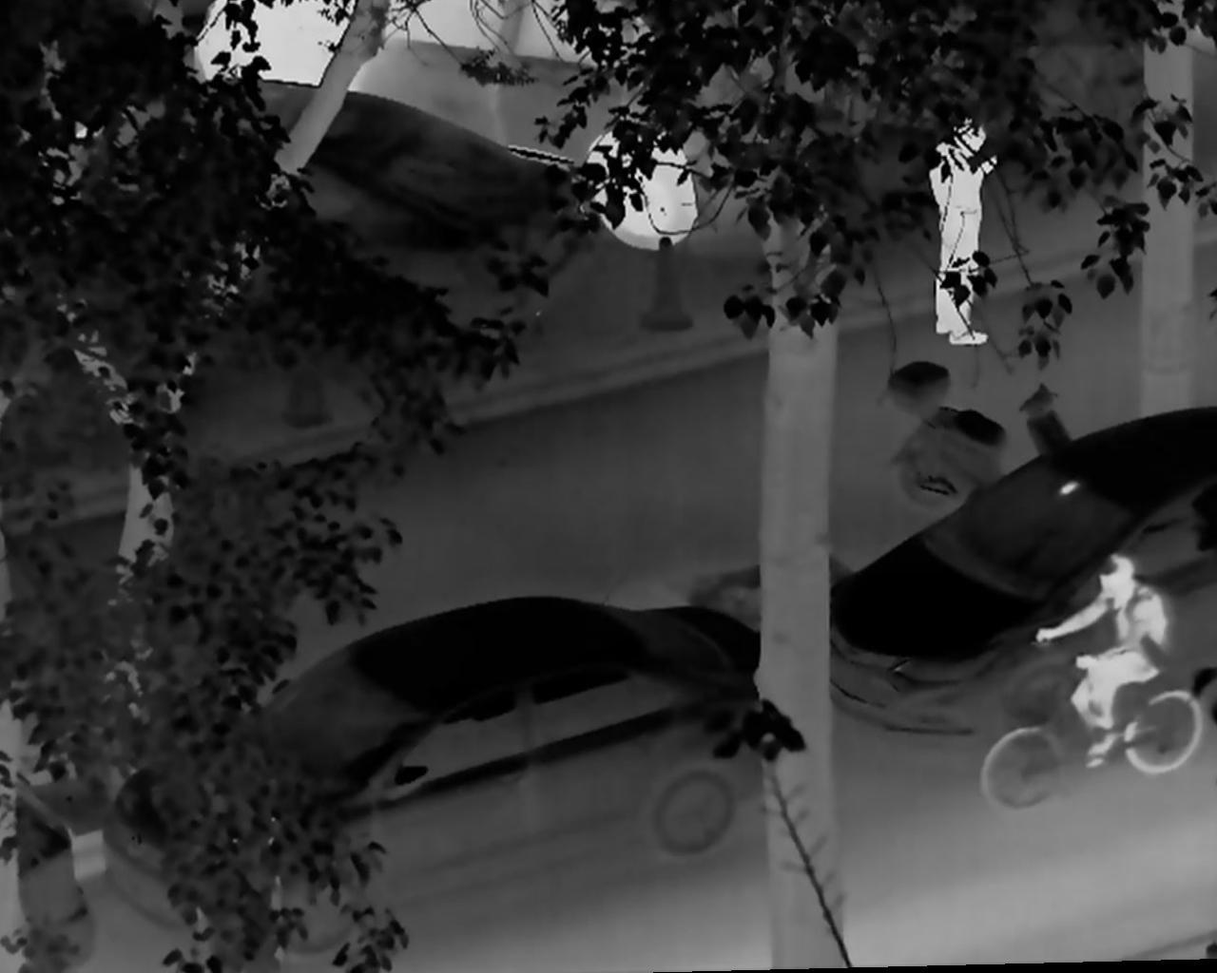person: (1025, 547, 1171, 769), (922, 116, 1001, 351)
